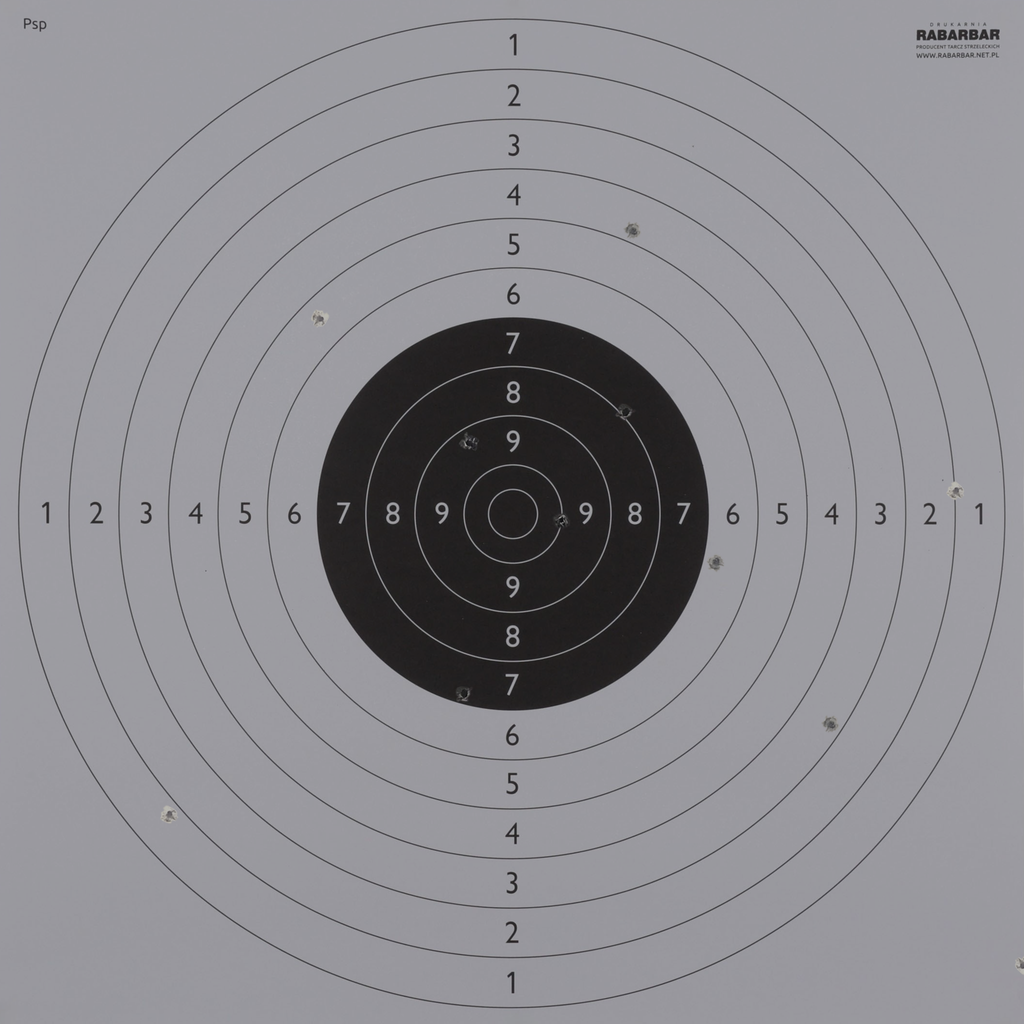0 punktow: (1014, 956, 1024, 974)
1 punkt: (160, 805, 179, 824)
10 punktow: (552, 511, 571, 529)
2 punkty: (947, 482, 965, 500)
3 punkty: (822, 715, 840, 734)
4 punkty: (624, 222, 642, 240)
5 punktow: (311, 310, 329, 328)
6 punktow: (707, 553, 725, 571)
7 punktow: (455, 685, 473, 703)
8 punktow: (616, 403, 635, 422)
9 punktow: (460, 434, 479, 452)
